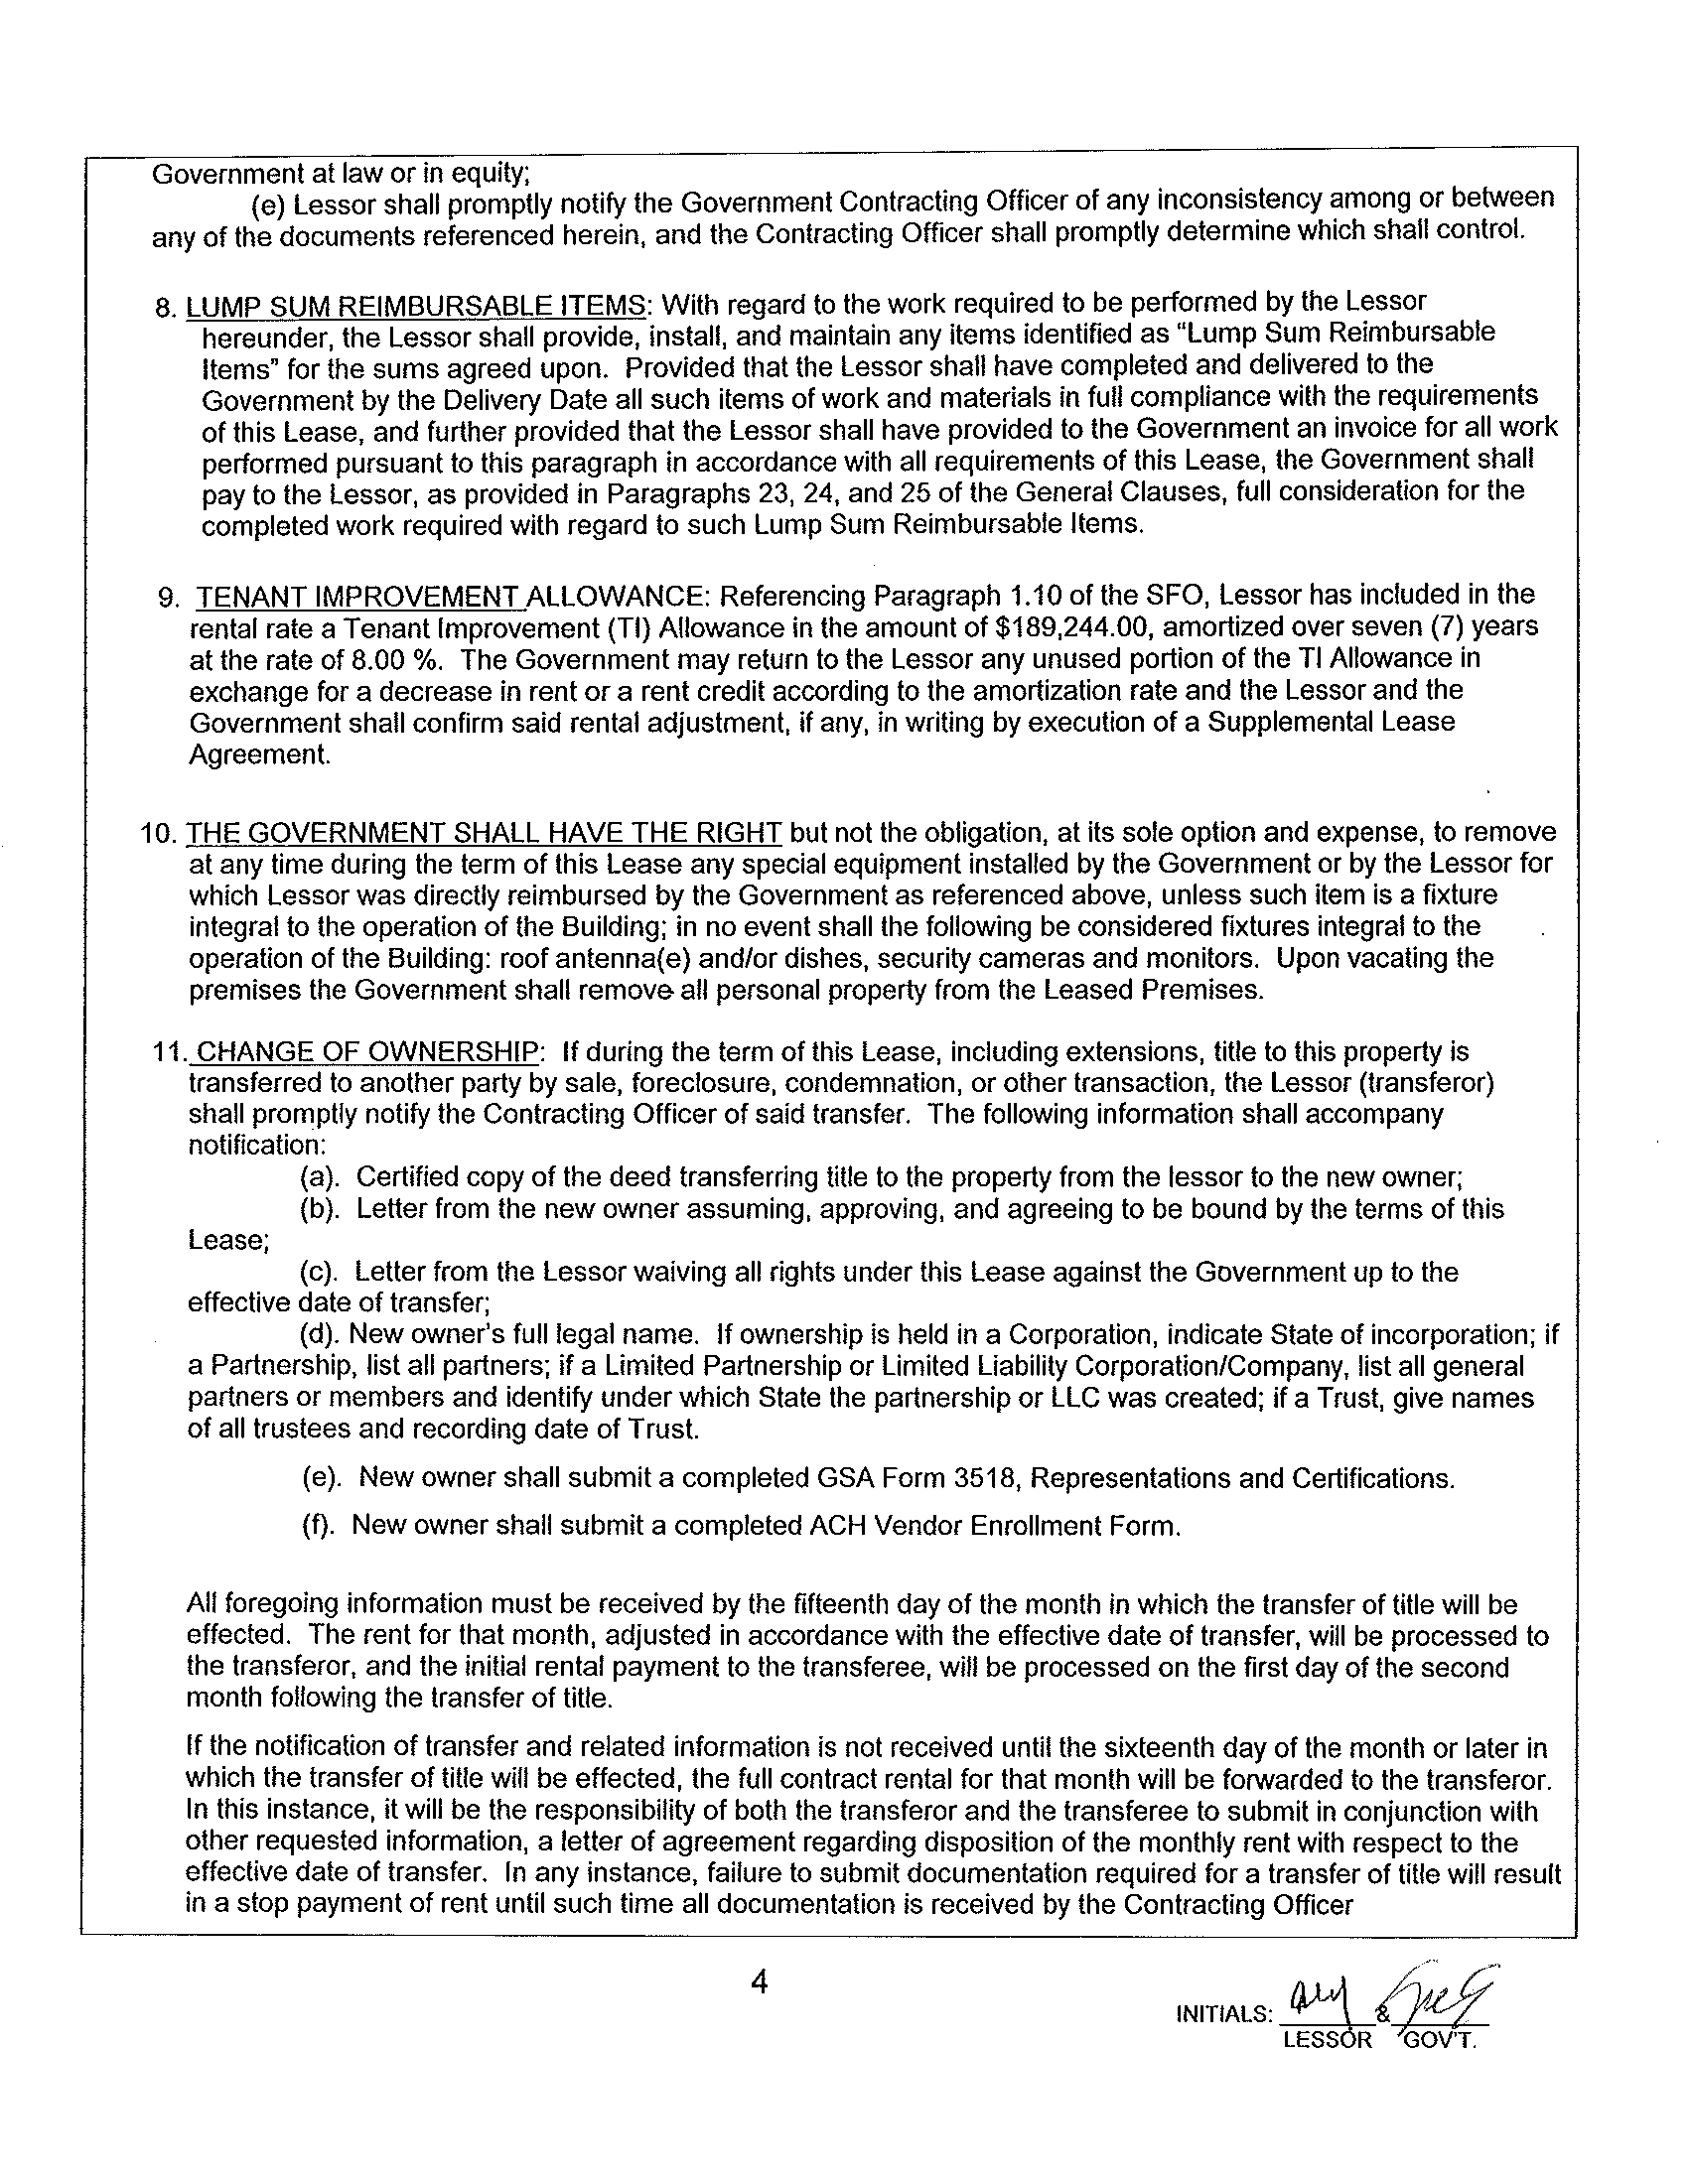handwritten: (1376, 1959, 1504, 2028), (1282, 1964, 1357, 2035)
